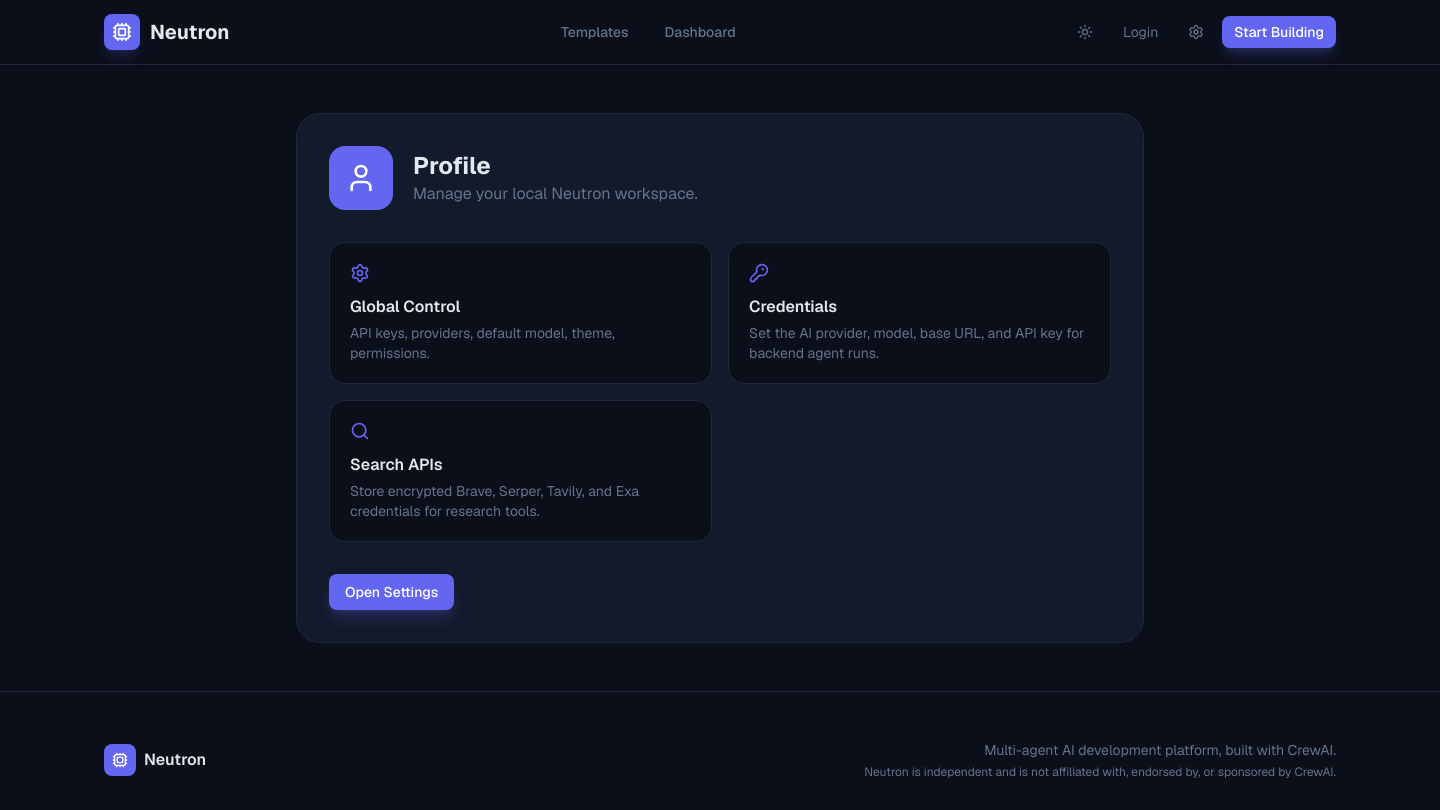
Test: ProfilePage › opens the settings modal when Global Control is clicked
Click the heading "Global Control" at [405, 306], box x1=350 y1=296 x2=460 y2=317
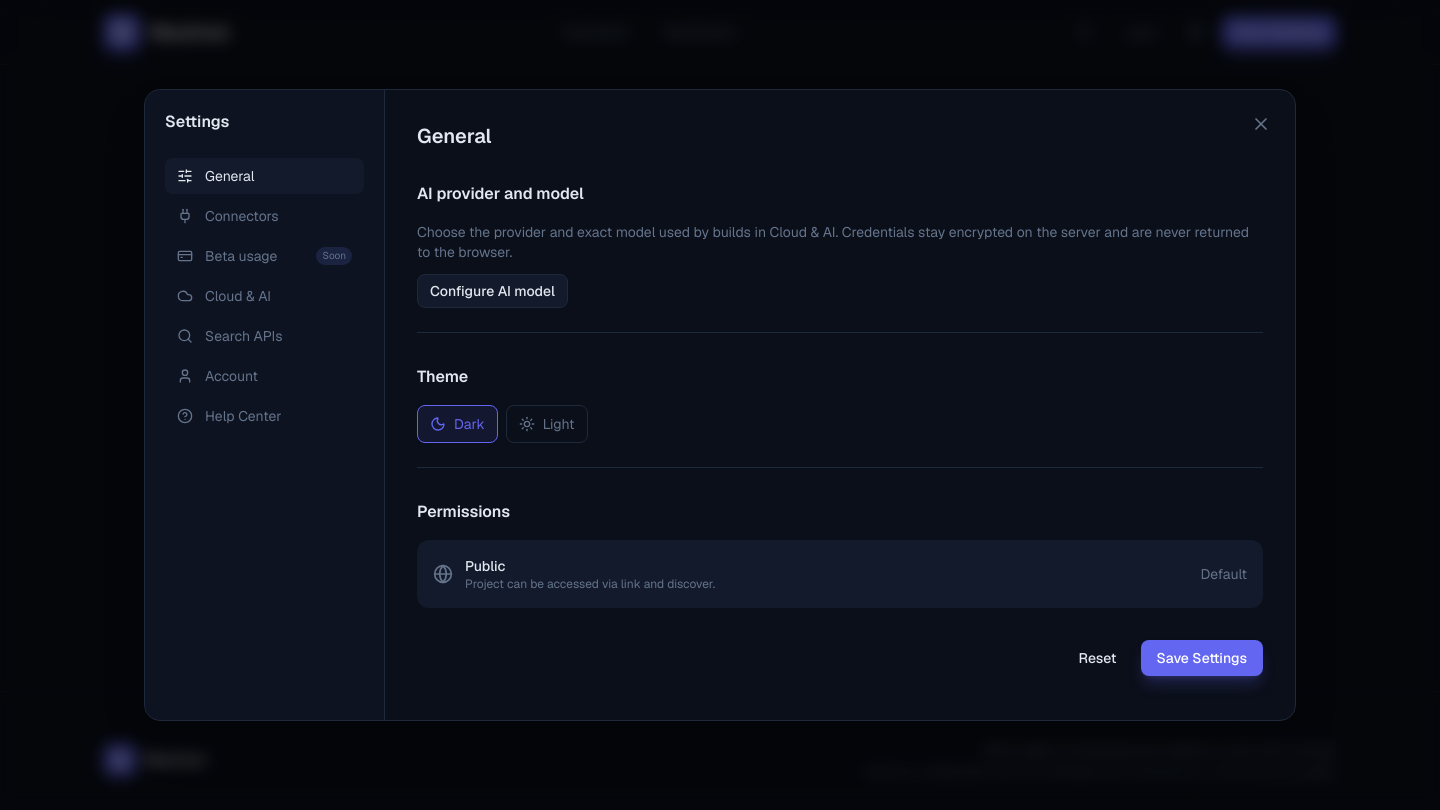
Expected: the button named "Close settings" is shown, x1=1251 y1=114 x2=1271 y2=134
Expected: the heading "AI provider and model" is shown, x1=417 y1=183 x2=584 y2=204
